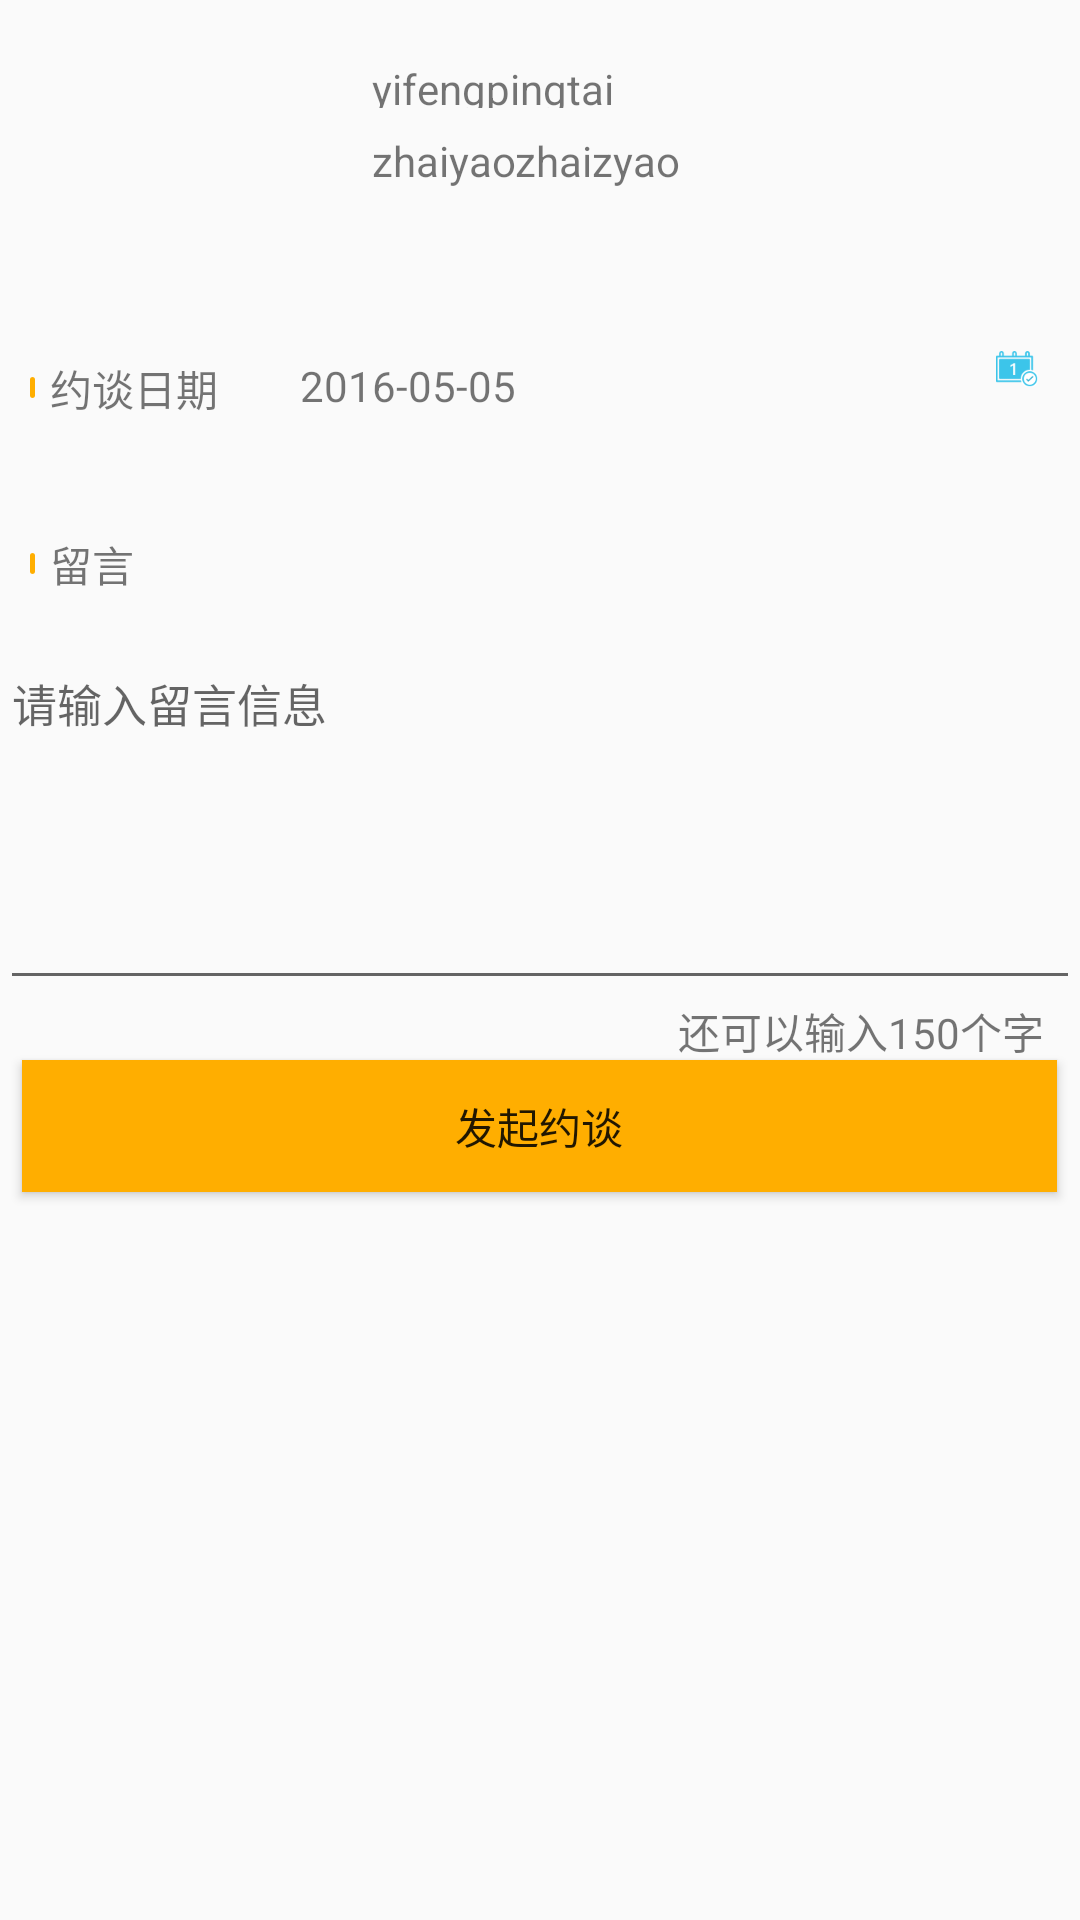

Named icons in this screenshot (1080px x 1920px) and their centers, [x,y]:
date: [1017,369]
